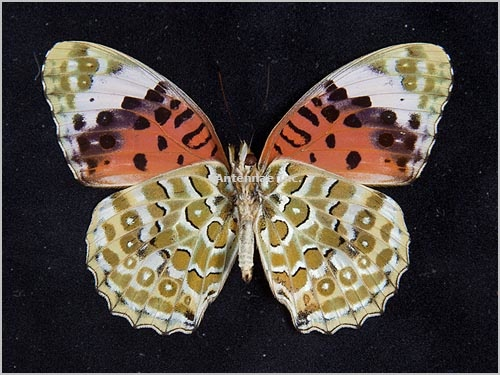Argyreus hyperbius: (34, 31, 459, 337)
butterfly: (36, 33, 461, 339)
